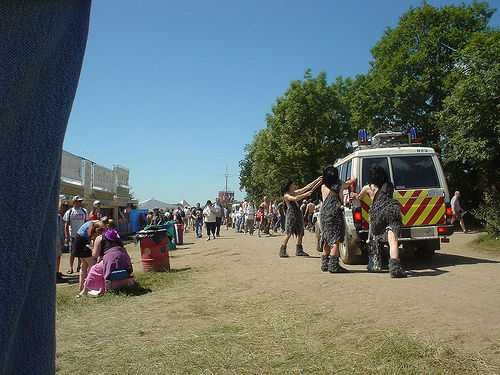Police Van: (309, 128, 454, 273)
